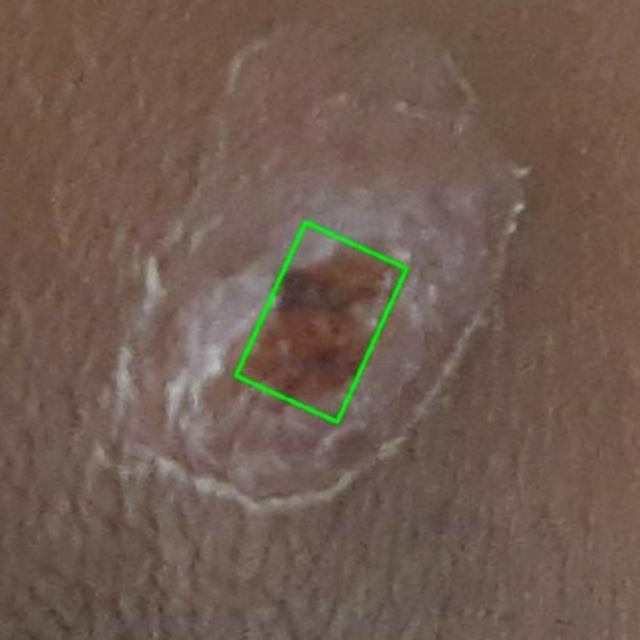Eczema: (236, 223, 407, 422)
